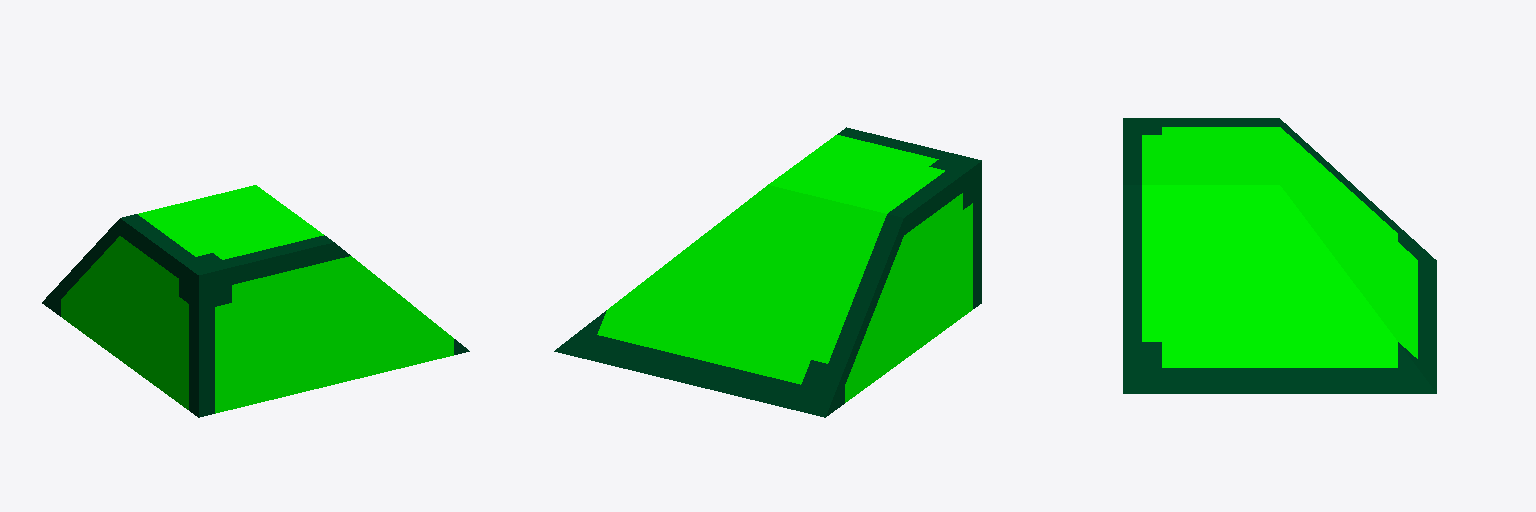
The picture shows the model from 3 angles: view 1: azimuth 30°, elevation 25°; view 2: azimuth 150°, elevation 25°; view 3: azimuth 270°, elevation 25°; orthographic projection.
Visible parts, largest first — view 1: 3_green; view 2: 3_green; view 3: 3_green.
Boxes of the visible parts, x1,y1,x2,y2 form: 3_green: [42, 185, 469, 417]; 3_green: [554, 127, 981, 417]; 3_green: [1123, 118, 1436, 393].
Bounding box in the file's own units: 1 × 0.5 × 1.
Materials: 1 (1 with a texture image).